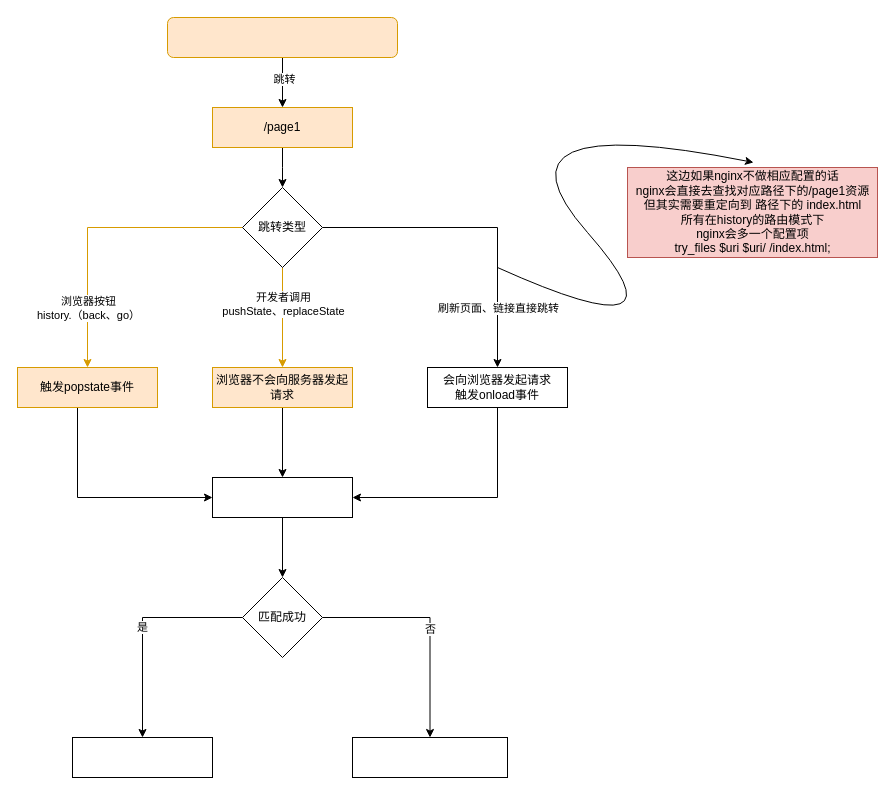
This 895x795 diagram has some shape labels left out. The shapes that lost their labels are listed below. From the top down, each one's centre as x and y in pixels, then its label:
At point (282, 37): "https://web-example.com".
At point (282, 497): "解析当前的url".
At point (142, 757): "根据不同规则，展示页面".
At point (430, 757): "做错误处理 重定向或者提示路径不存在".
